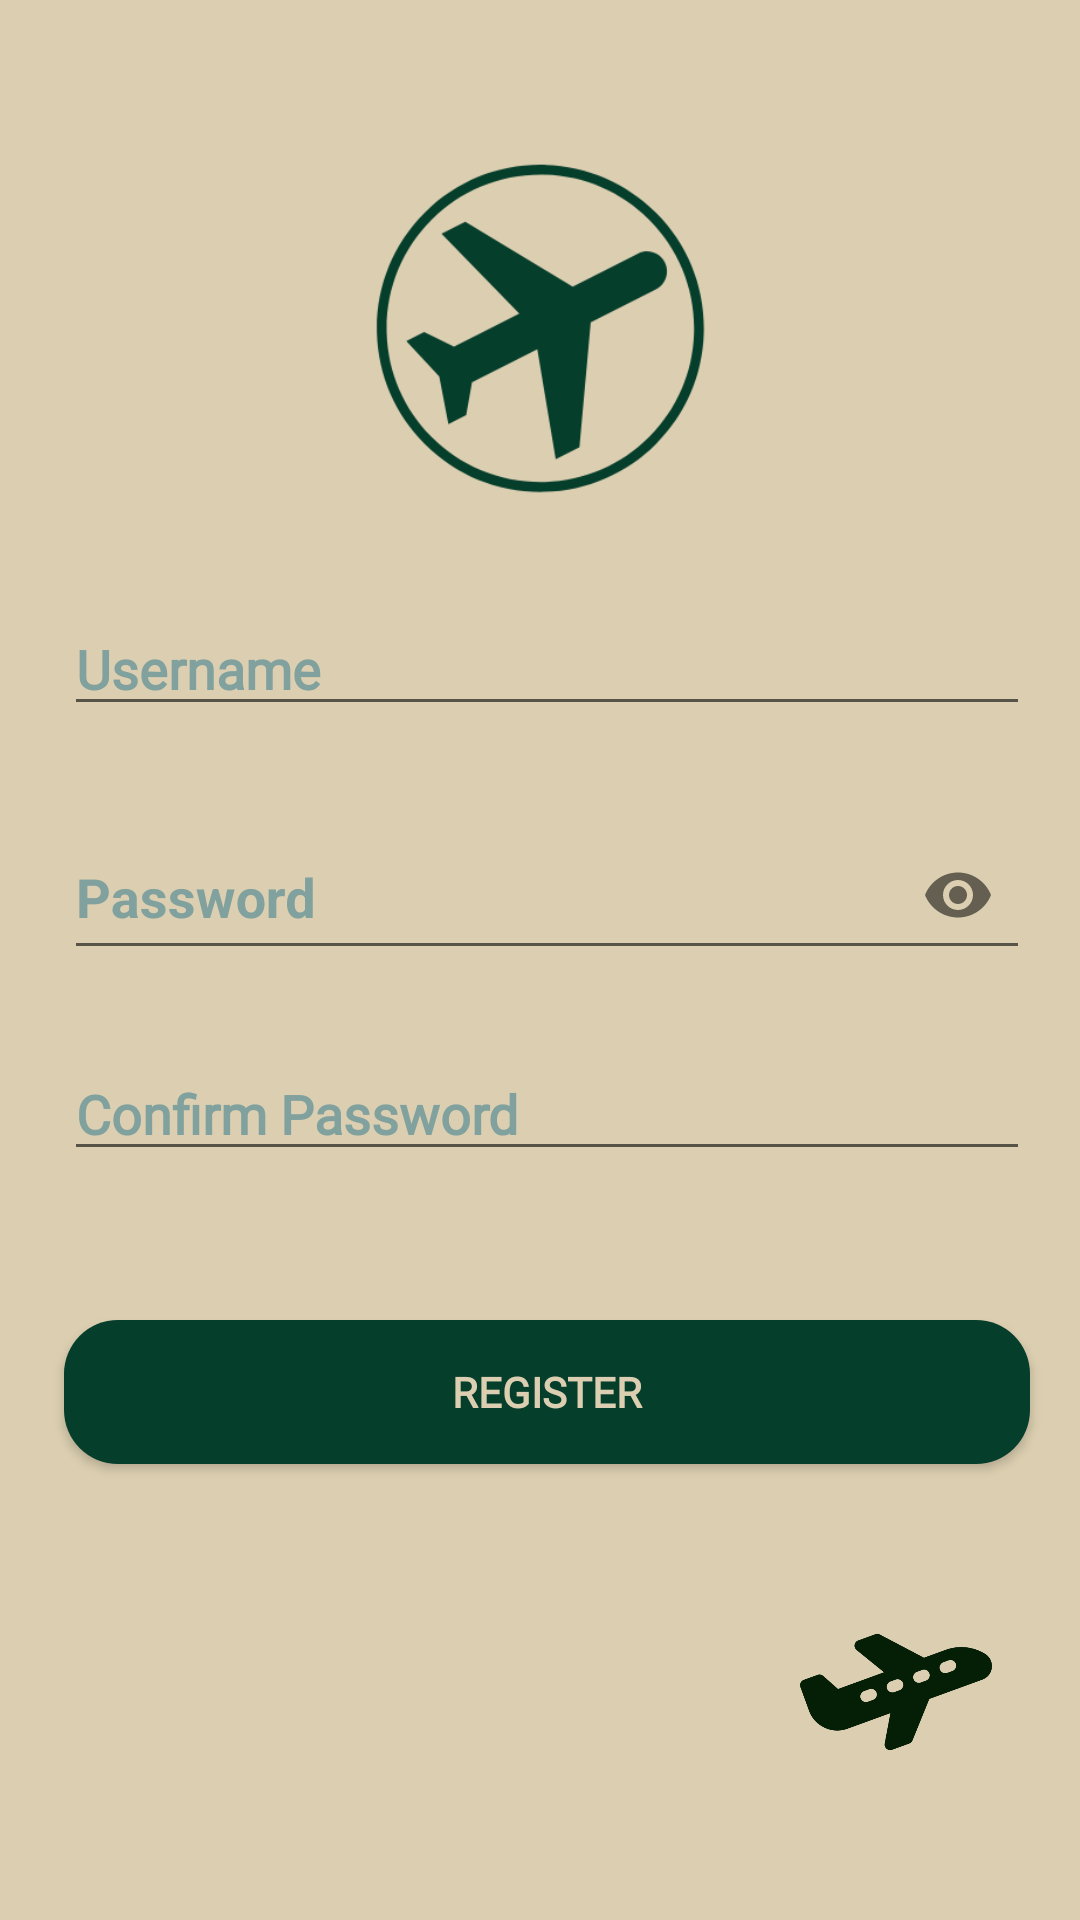

Named icons in this screenshot (1080 x 1920) and their centers, (x,y):
aeroplane: (896,1692)
flights: (540,328)
